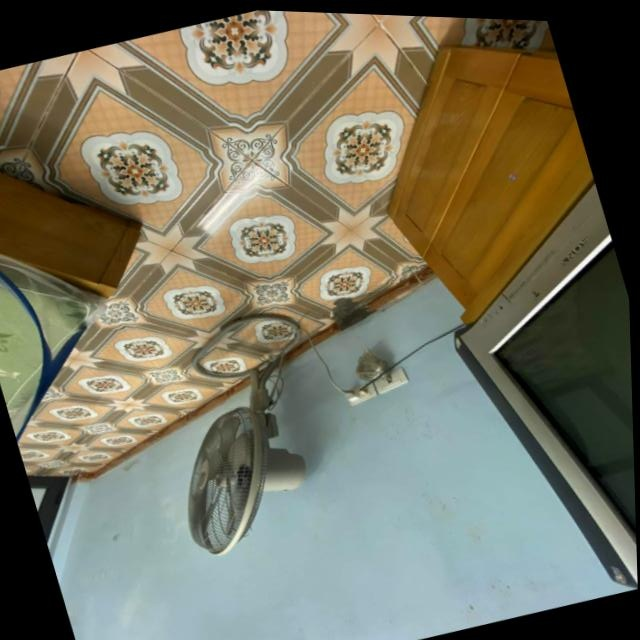outlet: (370, 366, 409, 396), (342, 379, 379, 409)
